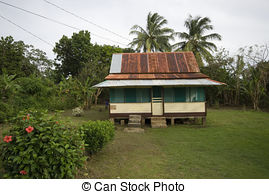Tin-shade House: (92, 51, 227, 126)
